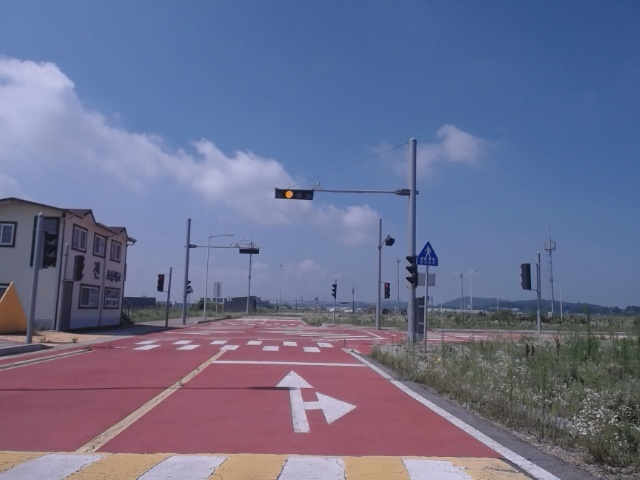orange_4: (275, 189, 315, 201)
